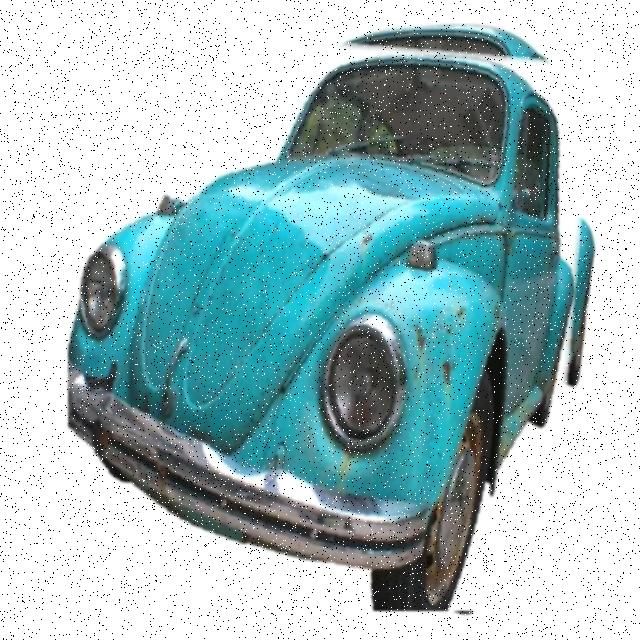car: (69, 21, 597, 612)
